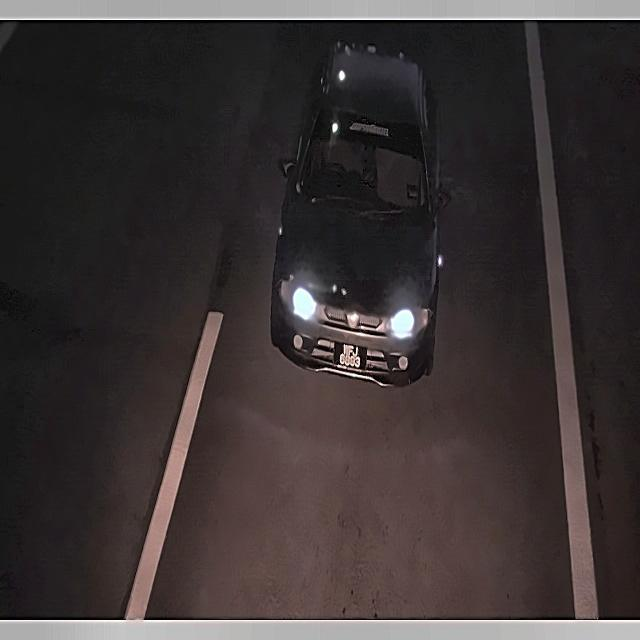car: (328, 332, 372, 380)
